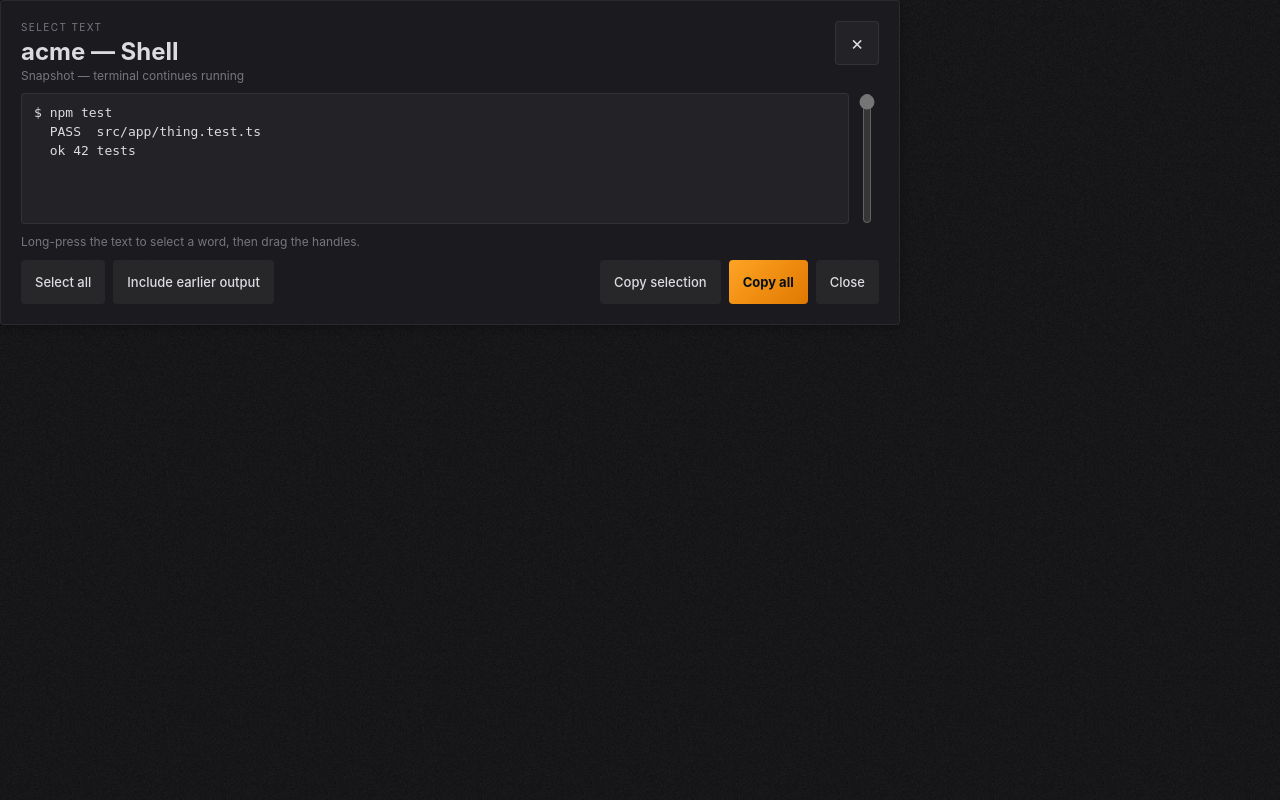
TerminalTextSelectionDialog › copy › Copy selection refuses when nothing is selected
This screenshot has width=1280, height=800.
Click the button "Copy selection" at (660, 282), box top-left (600, 260), bottom-right (721, 304)
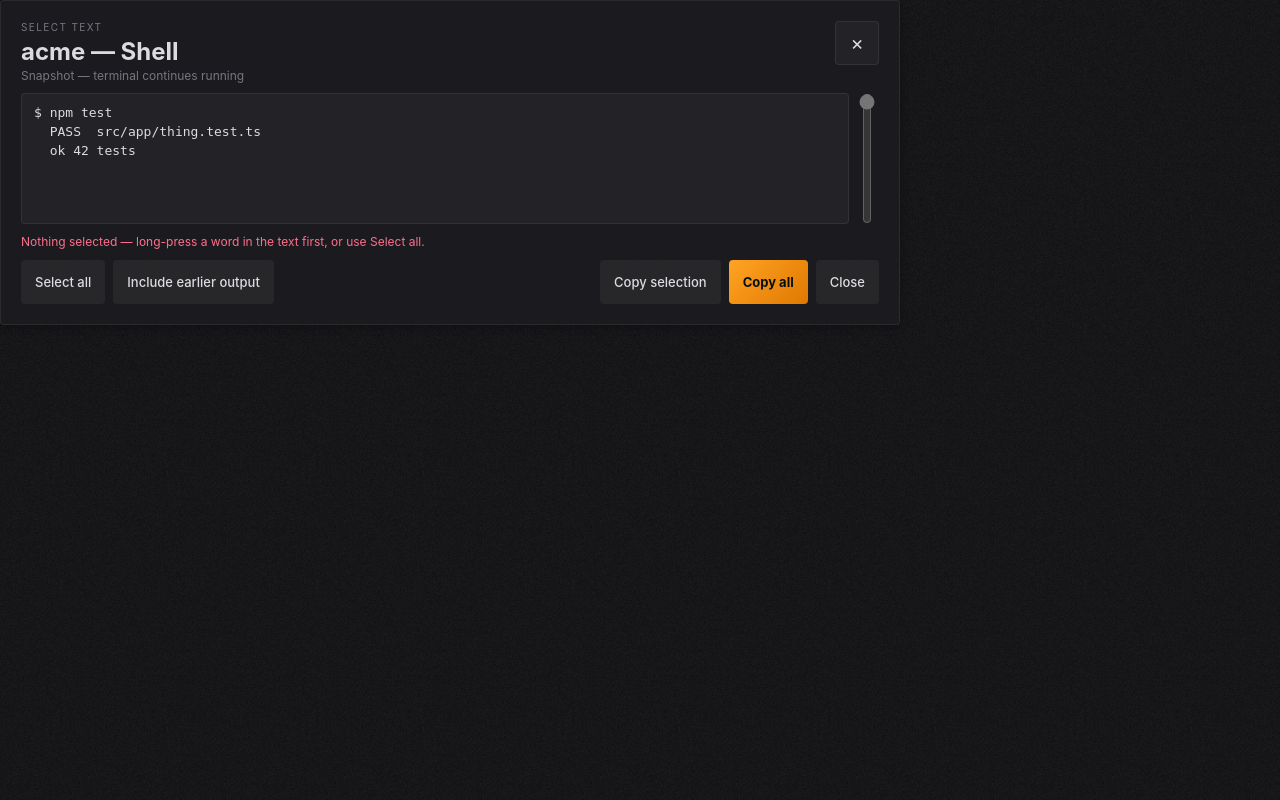
Now the text "Nothing selected" is shown, box top-left (21, 234), bottom-right (425, 249)
